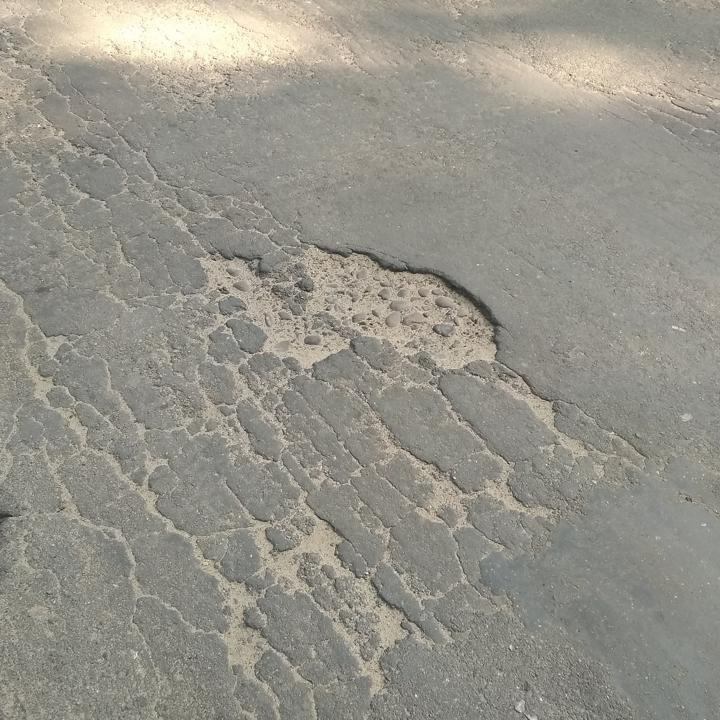pothole: (194, 238, 507, 377)
